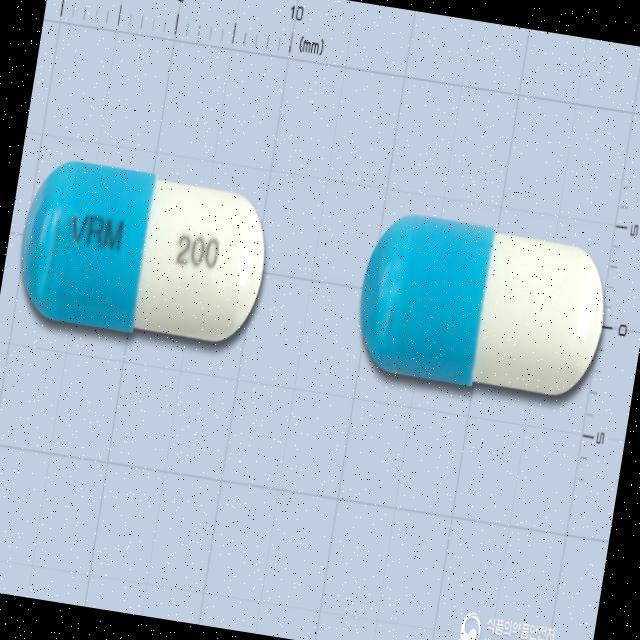Viramid Cap-200mg: (349, 206, 616, 409), (12, 151, 276, 356)
